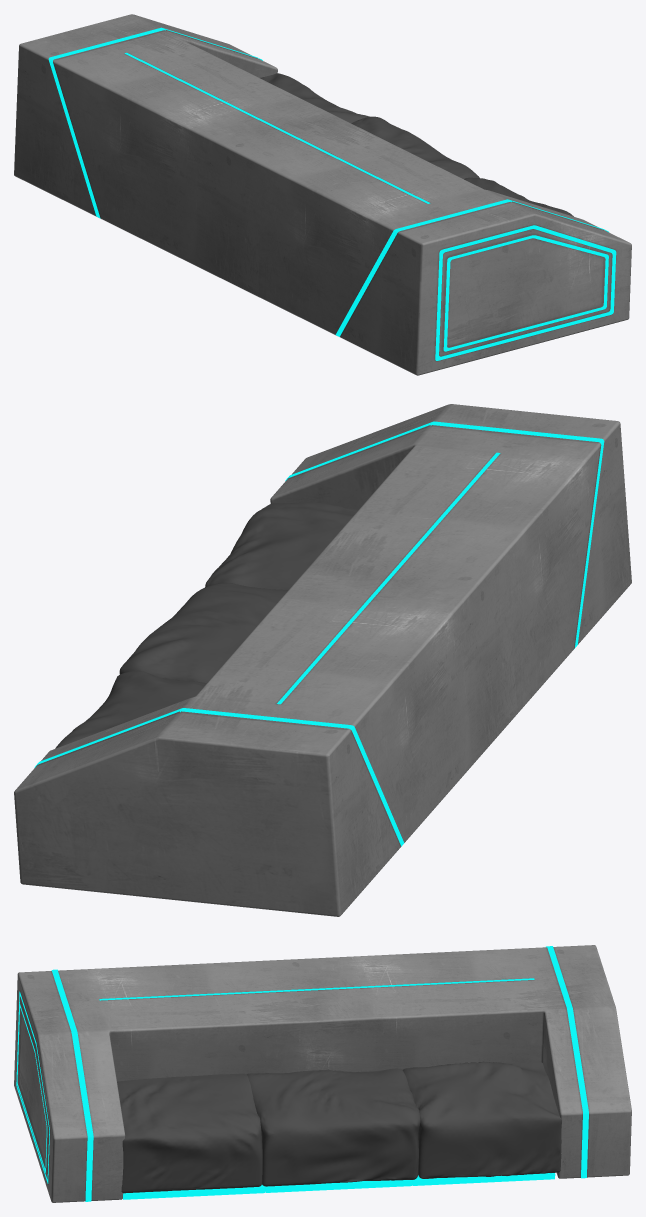
File: scifi_sofa.glb
3 renders of one model, top to bottom at view 1: azimuth 30°, elevation 25°; view 2: azimuth 150°, elevation 25°; view 3: azimuth 270°, elevation 25°, orthographic. The views are drawn at different scales.
Parts seen in each view (by area): view 1: Object_2, Object_3, Object_4; view 2: Object_2, Object_4, Object_3; view 3: Object_2, Object_4, Object_3.
Boxes of the visible parts, left/top/right/bottom form: Object_2: left=14, top=14, right=631, bottom=375; Object_3: left=48, top=27, right=616, bottom=360; Object_4: left=260, top=73, right=573, bottom=216; Object_2: left=14, top=404, right=631, bottom=916; Object_4: left=55, top=502, right=358, bottom=748; Object_3: left=34, top=421, right=604, bottom=846; Object_2: left=14, top=945, right=631, bottom=1202; Object_4: left=117, top=1061, right=561, bottom=1193; Object_3: left=16, top=946, right=588, bottom=1201.
Bounding box in the file's own units: 0.7738 × 0.358 × 1.41.
Materials: 3 (1 with a texture image).
